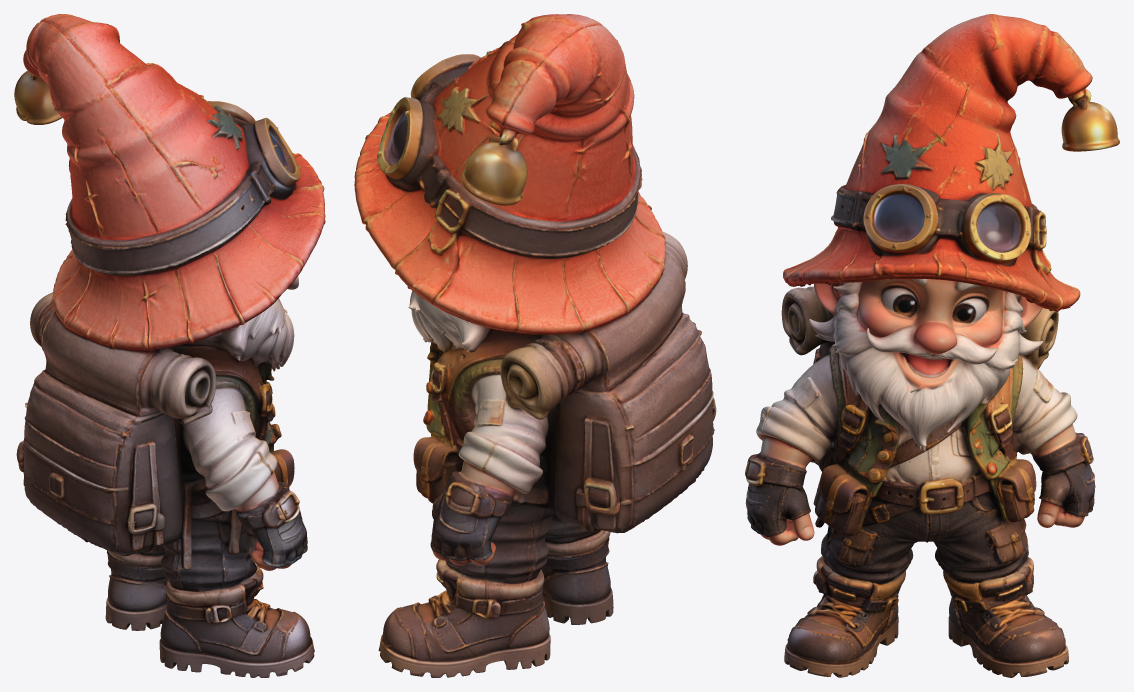
The model's file is gnome.glb.
The picture shows the model from 3 angles, left to right: view 1: azimuth 30°, elevation 25°; view 2: azimuth 150°, elevation 25°; view 3: azimuth 270°, elevation 25°; orthographic projection. The views are drawn at different scales.
Parts seen in each view (by area): view 1: tripo_node_e0fd99a6-e3f5-4b61-9eef-bb8a8e5f1e66; view 2: tripo_node_e0fd99a6-e3f5-4b61-9eef-bb8a8e5f1e66; view 3: tripo_node_e0fd99a6-e3f5-4b61-9eef-bb8a8e5f1e66.
Boxes of the visible parts, x1,y1,x2,y2 form: tripo_node_e0fd99a6-e3f5-4b61-9eef-bb8a8e5f1e66: (14,14,325,677); tripo_node_e0fd99a6-e3f5-4b61-9eef-bb8a8e5f1e66: (354,14,716,677); tripo_node_e0fd99a6-e3f5-4b61-9eef-bb8a8e5f1e66: (745,14,1119,677).
Size of the model in its own units: 0.4647 by 0.999 by 0.5713.
1 material, 1 textured.
